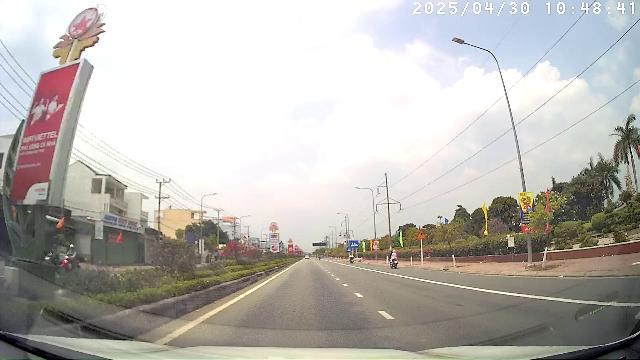420-bat-dau-khu-dong-dan-cu: (349, 240, 358, 248)
